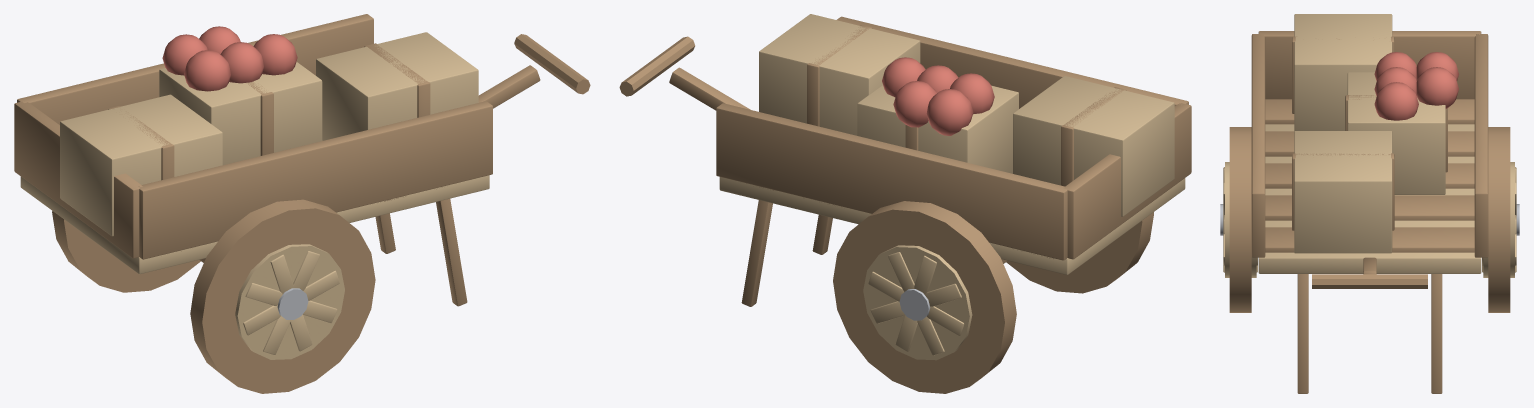
Rendered from th48_handkarren.glb.
3 views of the same model, side by side, from view 1: azimuth 30°, elevation 25°; view 2: azimuth 150°, elevation 25°; view 3: azimuth 270°, elevation 25° (orthographic). The views are drawn at different scales.
Parts seen in each view (by area): view 1: Cube.006, Cylinder, Cube.045, Cube.053, Cube.049, Cube.007, Cube.008, Cylinder.001, Cube, Cylinder.006, Cube.043, Sphere (+19 smaller); view 2: Cube.007, Cylinder.006, Cube.045, Cube.053, Cube.049, Cube.008, Cube.006, Cylinder.009, Cube, Cylinder, Sphere.003, Cube.044 (+17 smaller); view 3: Cube.053, Cube.045, Cube, Cube.049, Cube.008, Cylinder, Cylinder.006, Cube.006, Cube.007, Cube.005, Cube.004, Cylinder.012 (+15 smaller).
Boxes of the visible parts, bbox=[...] form: Cube.006: bbox=[138, 101, 492, 259]; Cylinder: bbox=[190, 199, 375, 393]; Cube.045: bbox=[60, 94, 222, 236]; Cube.053: bbox=[316, 32, 478, 140]; Cube.049: bbox=[159, 61, 322, 165]; Cube.007: bbox=[17, 14, 373, 124]; Cube.008: bbox=[14, 101, 142, 258]; Cylinder.001: bbox=[235, 244, 344, 359]; Cube: bbox=[20, 175, 489, 274]; Cylinder.006: bbox=[52, 211, 200, 292]; Cube.043: bbox=[436, 198, 467, 306]; Sphere: bbox=[184, 50, 230, 91]; Cube.007: bbox=[716, 103, 1068, 260]; Cylinder.006: bbox=[833, 201, 1016, 393]; Cube.045: bbox=[1013, 76, 1174, 216]; Cube.053: bbox=[759, 14, 920, 135]; Cube.049: bbox=[857, 85, 1018, 173]; Cube.008: bbox=[1064, 103, 1191, 259]; Cube.006: bbox=[837, 16, 1188, 108]; Cylinder.009: bbox=[863, 245, 972, 360]; Cube: bbox=[719, 177, 1185, 274]; Cylinder: bbox=[1006, 212, 1153, 293]; Sphere.003: bbox=[926, 89, 973, 135]; Cube.044: bbox=[741, 200, 772, 306]; Cube.053: bbox=[1294, 131, 1392, 253]; Cube.045: bbox=[1294, 14, 1392, 130]; Cube: bbox=[1258, 124, 1481, 273]; Cube.049: bbox=[1347, 72, 1445, 194]; Cube.008: bbox=[1258, 31, 1481, 99]; Cylinder: bbox=[1229, 127, 1251, 312]; Cylinder.006: bbox=[1488, 127, 1510, 312]; Cube.006: bbox=[1251, 34, 1265, 257]; Cube.007: bbox=[1474, 34, 1488, 257]; Cube.005: bbox=[1265, 227, 1474, 252]; Cube.004: bbox=[1265, 195, 1474, 220]; Cylinder.012: bbox=[1312, 274, 1427, 288].
Bounding box in the file's own units: 2.37 × 1.26 × 1.34.
